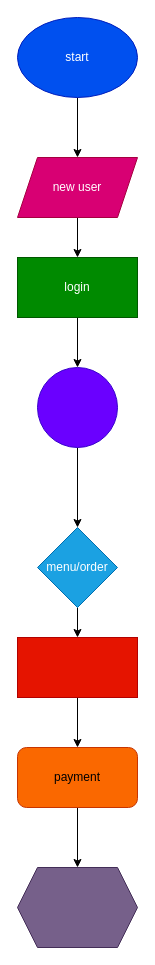
Image size: 155x965. Some labels were removed from this diagram. The shapes that lost their labels are listed below. From the top down, each one's centre as x and y in pixels, then its label:
the point at 77,407: search food
the point at 77,667: address
the point at 77,907: end
